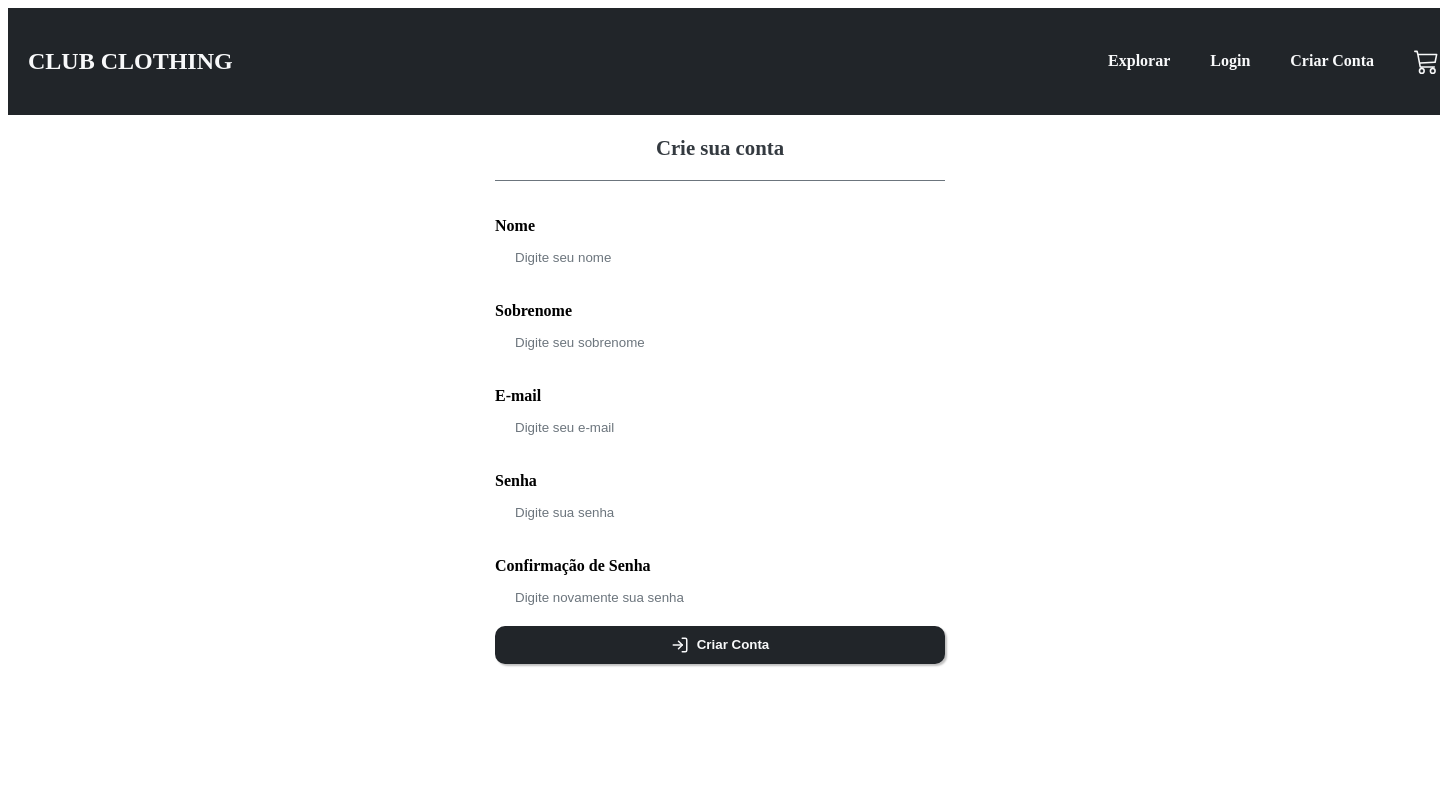
Test: Sign Up › should show error if e-mail already exist
Type "Lorem" into the field with placeholder "Digite seu nome". click: (740, 252)
box: [495,240,985,265]
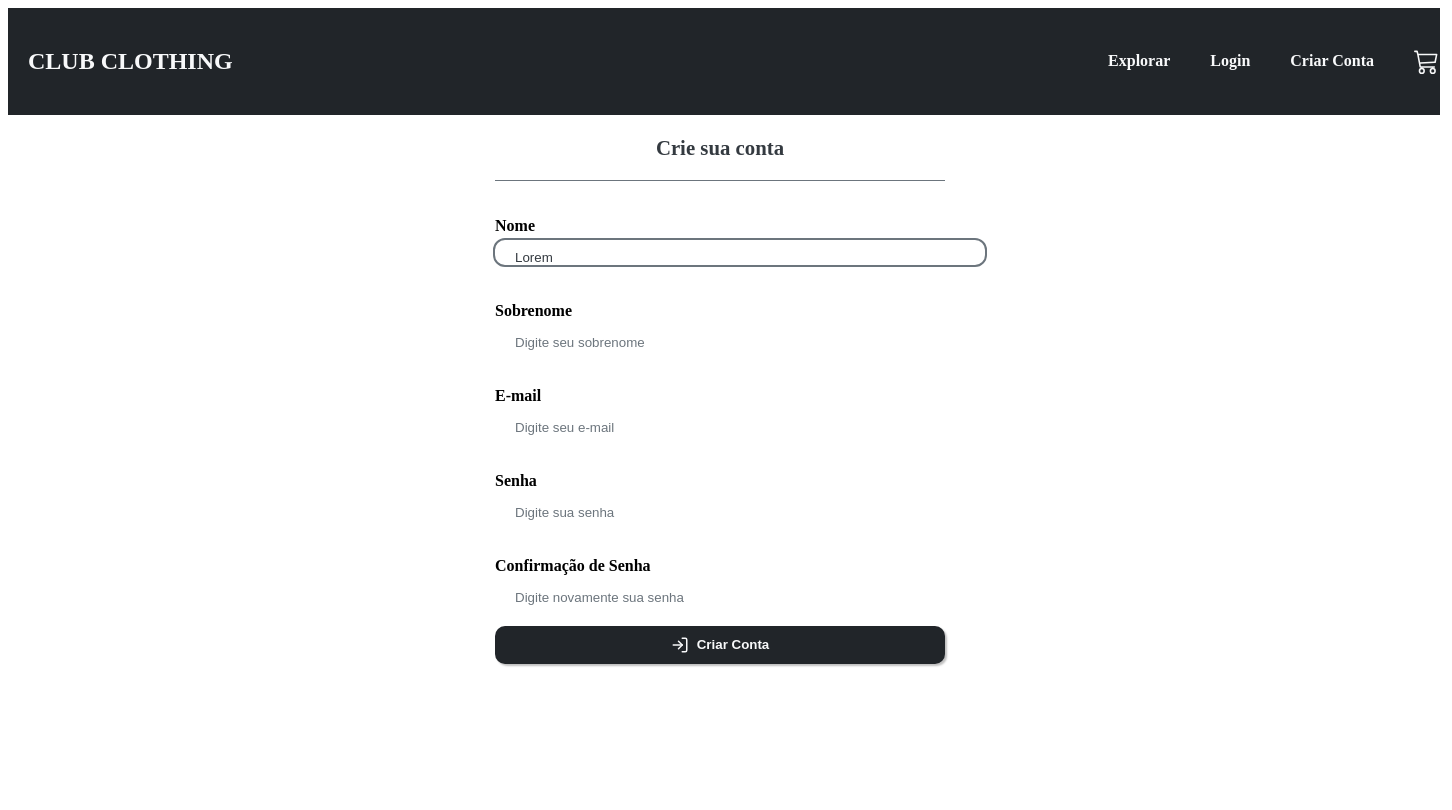
Type "Ipsum" into the field with placeholder "Digite seu sobrenome". click: (740, 337)
box: [495,325,985,350]
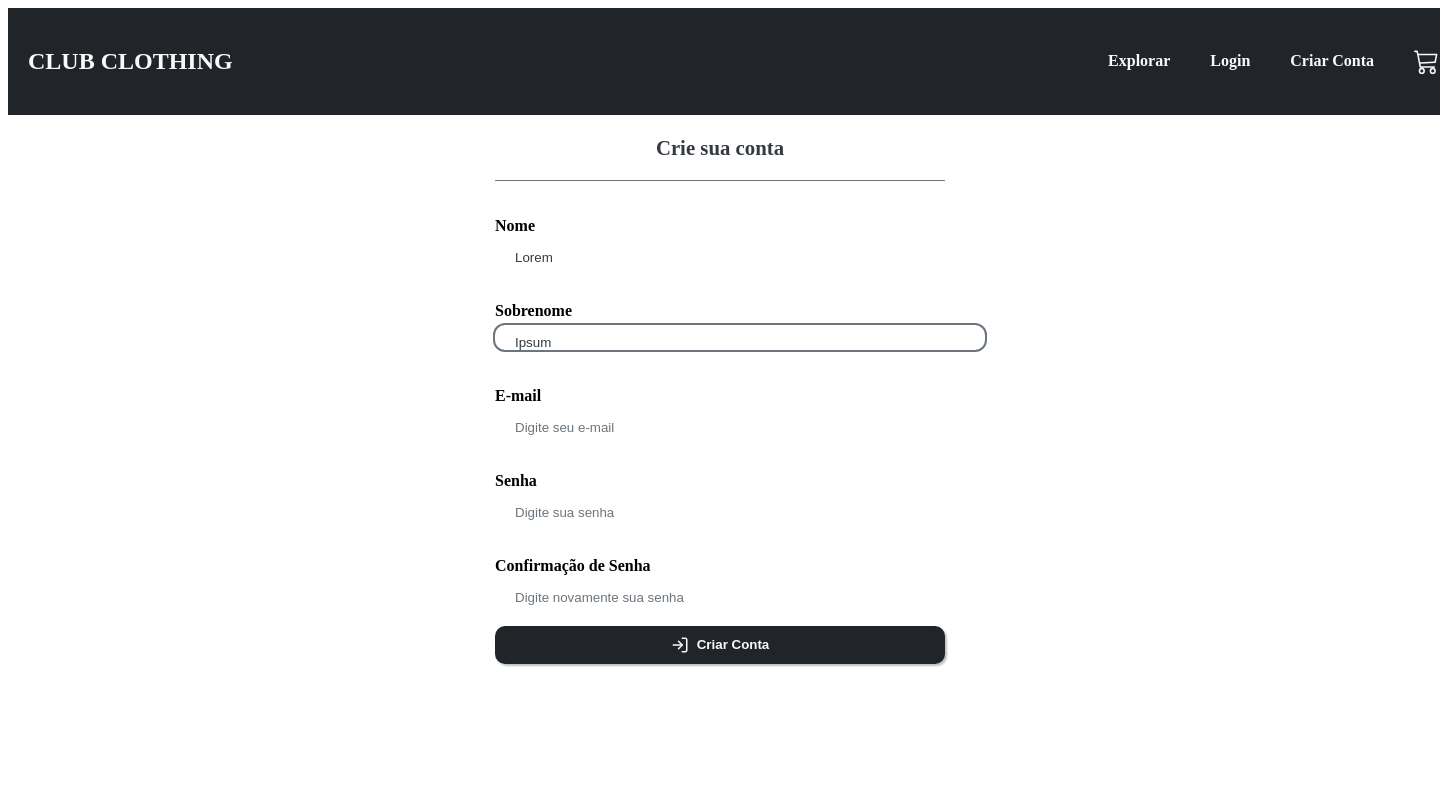
Type "lorem@ipsum.com" into the field with placeholder "Digite seu e-mail". click: (740, 422)
box: [495,410,985,435]
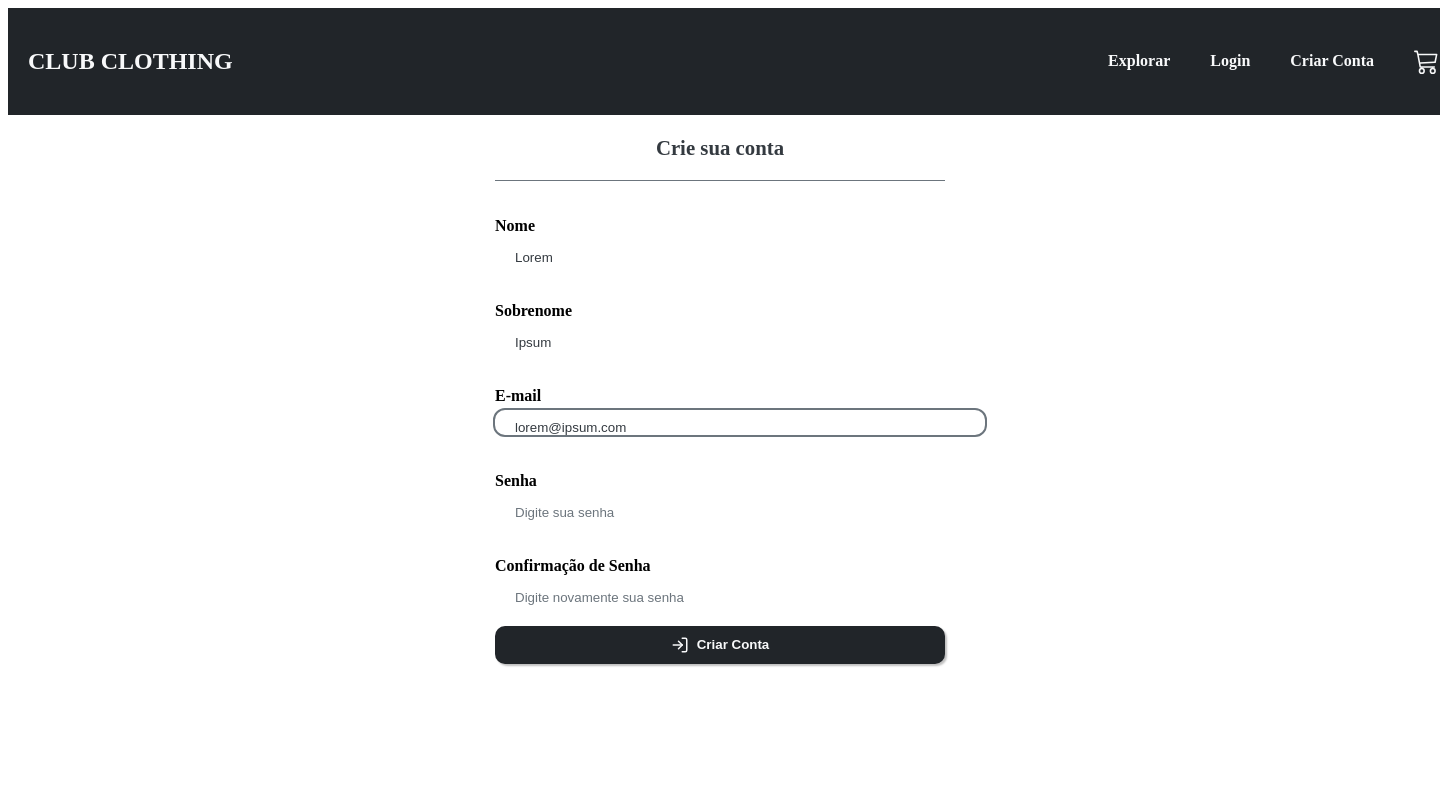
Type "12345678" into the password field with placeholder "Digite sua senha". click: (740, 507)
box: [495,495,985,520]
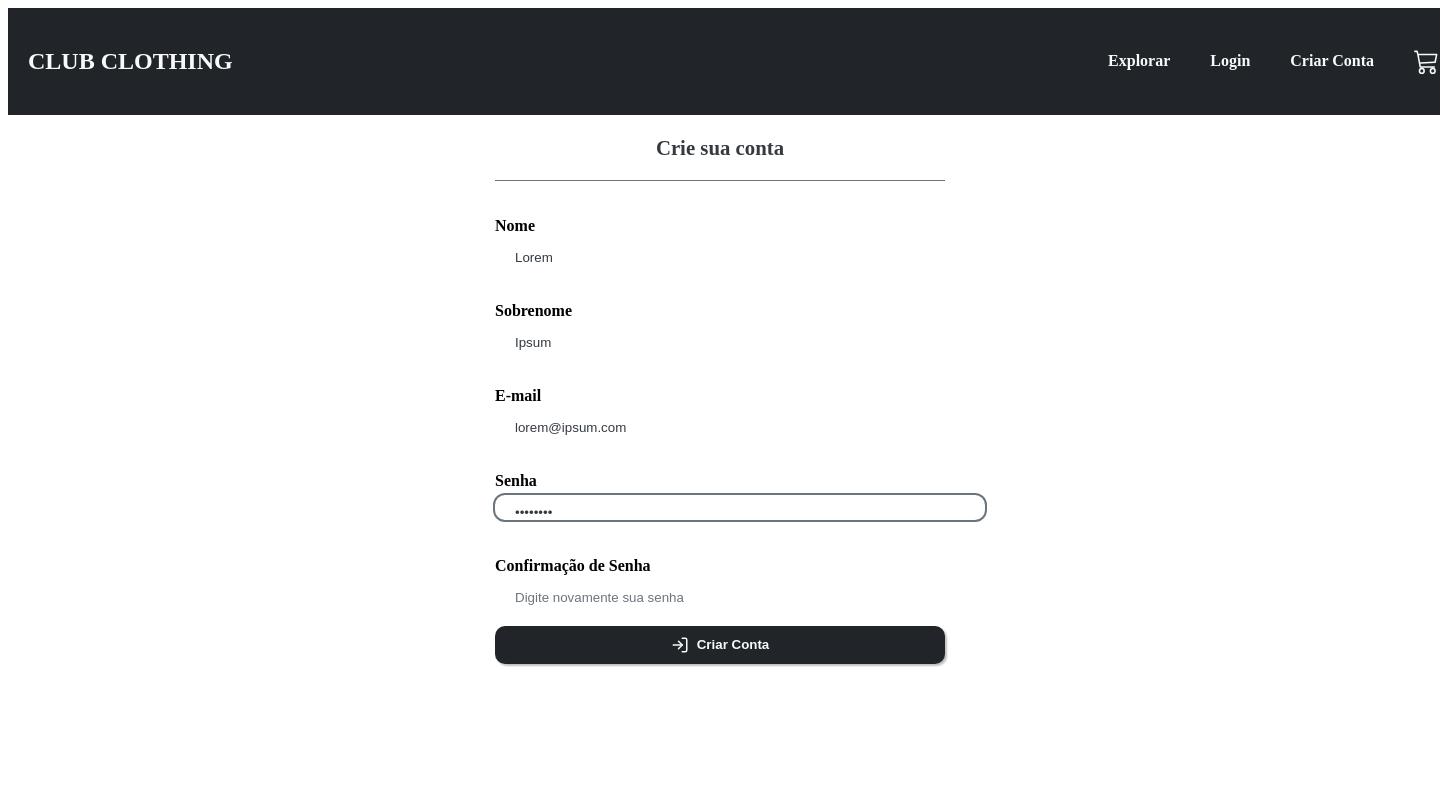
Type "12345678" into the password field with placeholder "Digite novamente sua senha". click: (740, 592)
box: [495,580,985,605]
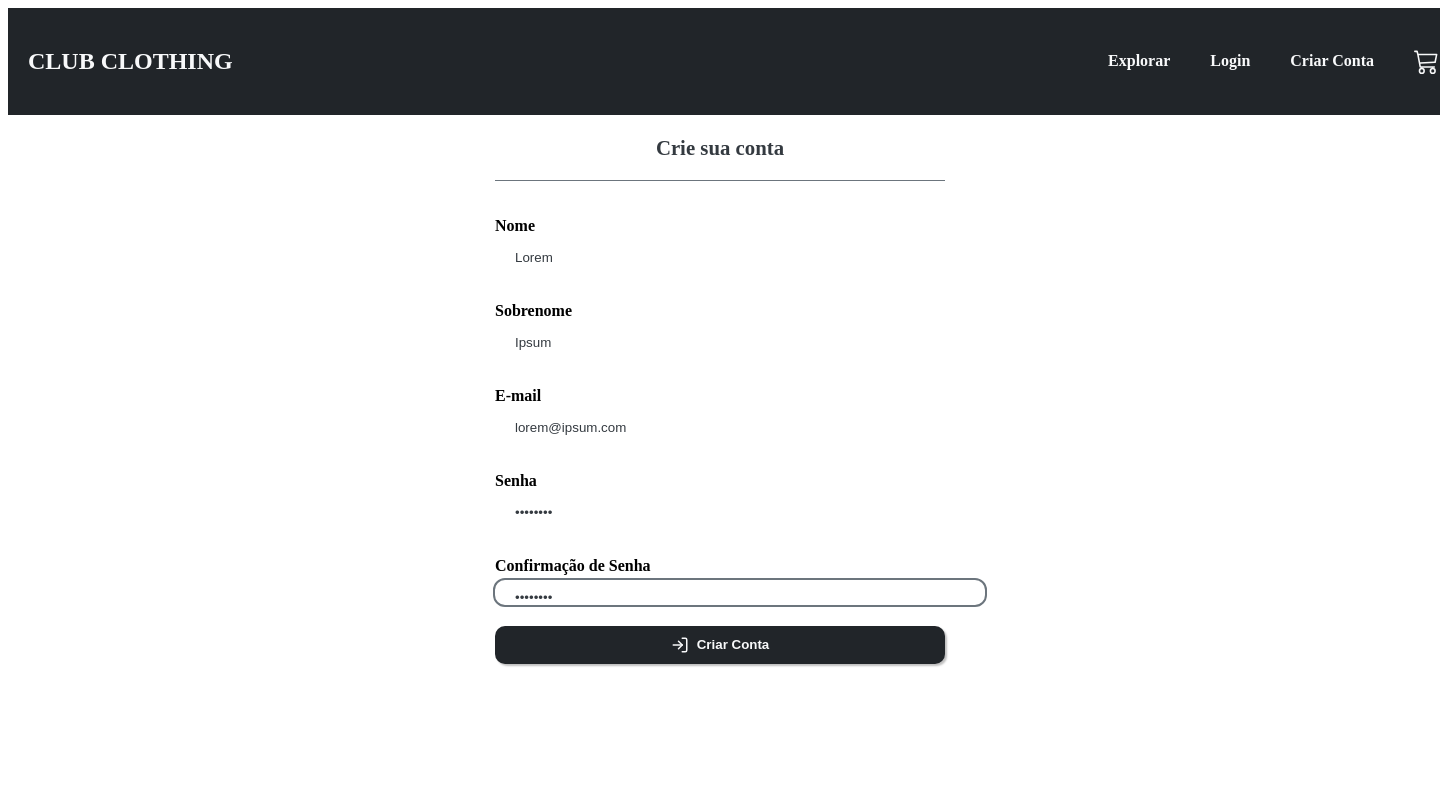
Click the button "Criar Conta". click: (720, 645)
box: [495,626,945,664]
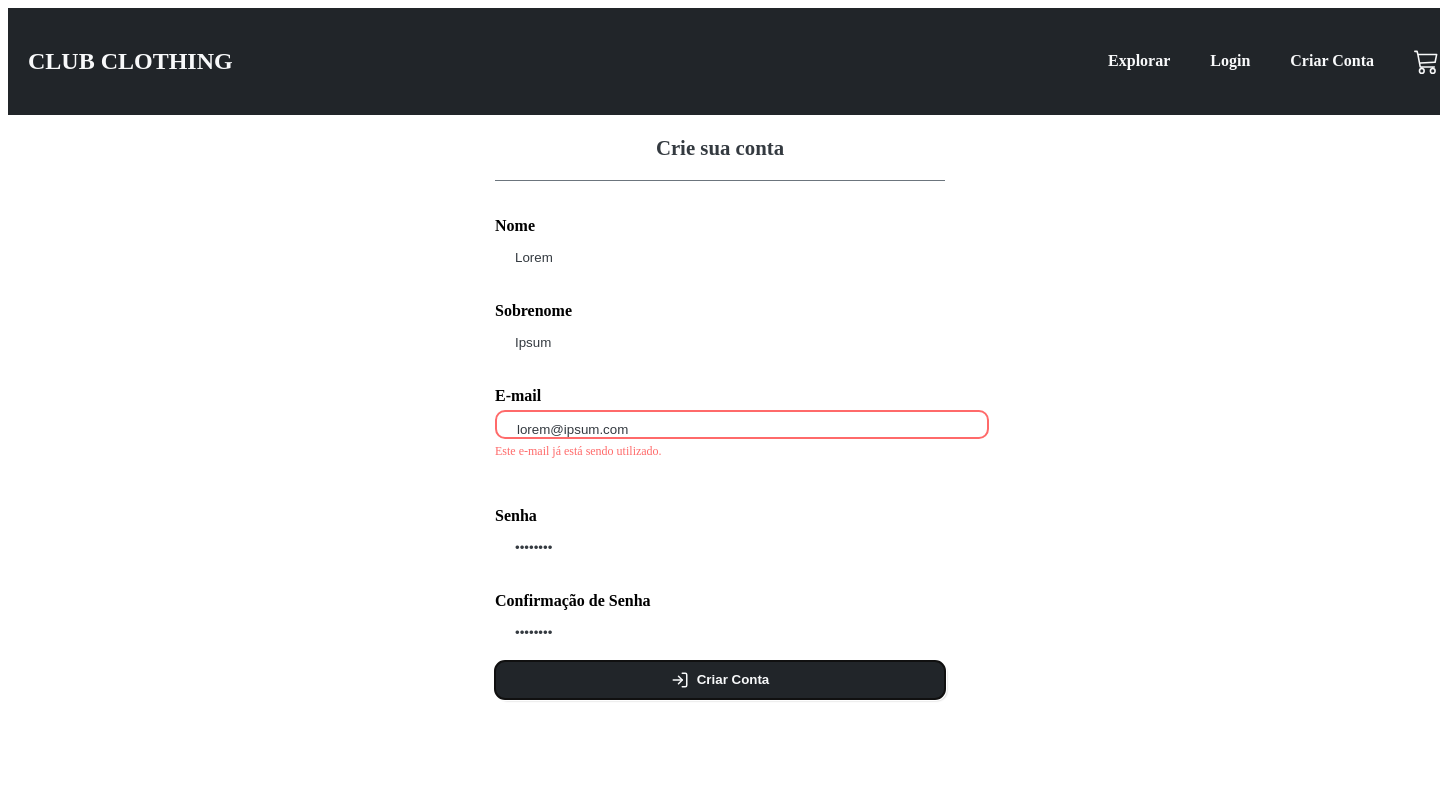
Check: the text "Este e-mail já está sendo utilizado." is shown, box [495,444,662,458]
